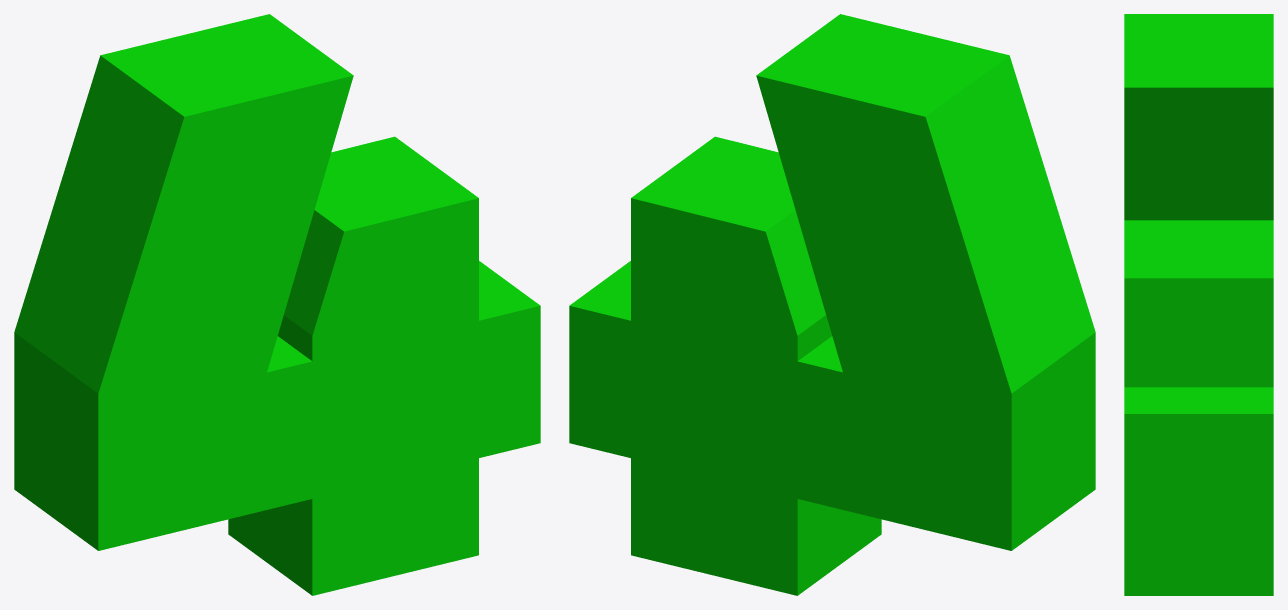
The model's file is 4 - copia.gltf.
3 views of the same model, side by side, from view 1: azimuth 30°, elevation 25°; view 2: azimuth 150°, elevation 25°; view 3: azimuth 270°, elevation 25° (orthographic). The views are drawn at different scales.
Parts seen in each view (by area): view 1: Texto; view 2: Texto; view 3: Texto.
Part boxes in pixels (x1,y1,x2,y2): Texto: (14, 14, 540, 595); Texto: (569, 14, 1095, 595); Texto: (1124, 14, 1273, 595).
Bounding box in the file's own units: 1.31 × 1.44 × 0.43.
